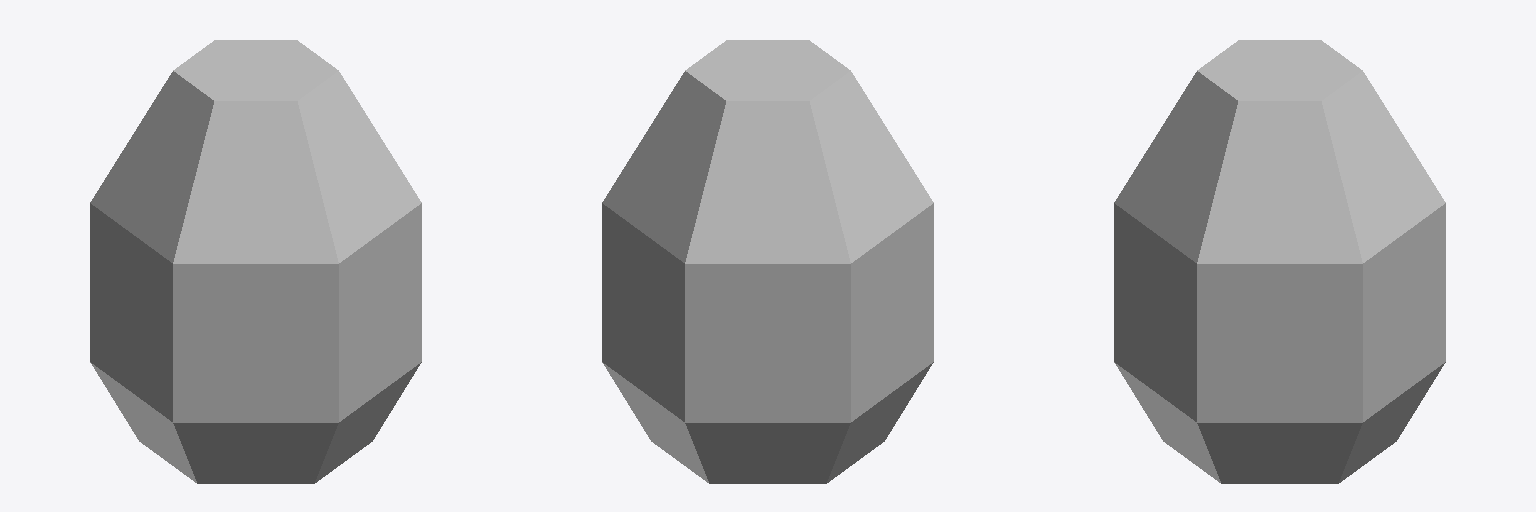
The model's file is egg.obj.
3 views of the same model, side by side, from view 1: azimuth 30°, elevation 25°; view 2: azimuth 150°, elevation 25°; view 3: azimuth 270°, elevation 25° (orthographic).
Visible parts, largest first — view 1: egg; view 2: egg; view 3: egg.
Boxes of the visible parts, x1,y1,x2,y2 form: egg: [90, 40, 421, 483]; egg: [602, 40, 933, 483]; egg: [1114, 40, 1445, 483].
Bounding box in the file's own units: 0.1161 × 0.1652 × 0.134.